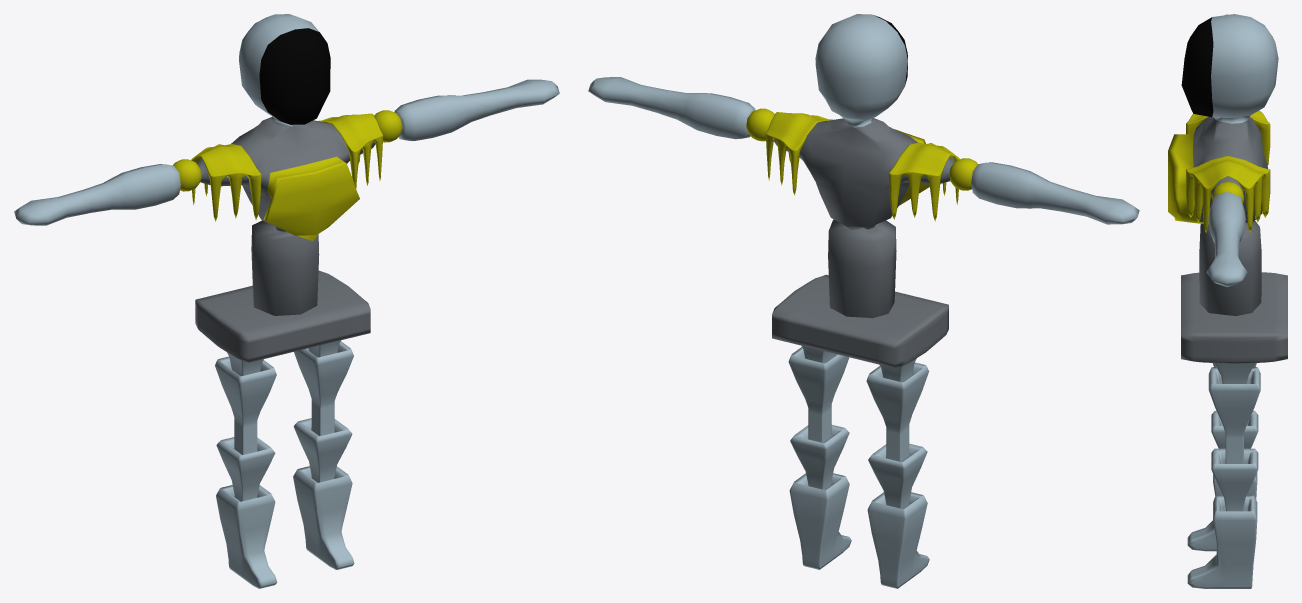
The model's file is robotGeneral_head_animationrobotHeadNod.fbx.
3 views of the same model, side by side, from view 1: azimuth 30°, elevation 25°; view 2: azimuth 150°, elevation 25°; view 3: azimuth 270°, elevation 25° (orthographic).
Parts seen in each view (by area): view 1: L_arm1; view 2: L_arm1; view 3: L_arm1.
Part boxes in pixels (x1,y1,x2,y2): L_arm1: (14,14,559,588); L_arm1: (588,14,1139,588); L_arm1: (1168,14,1287,588).
Size of the model in its own units: 558 by 537 by 107.
